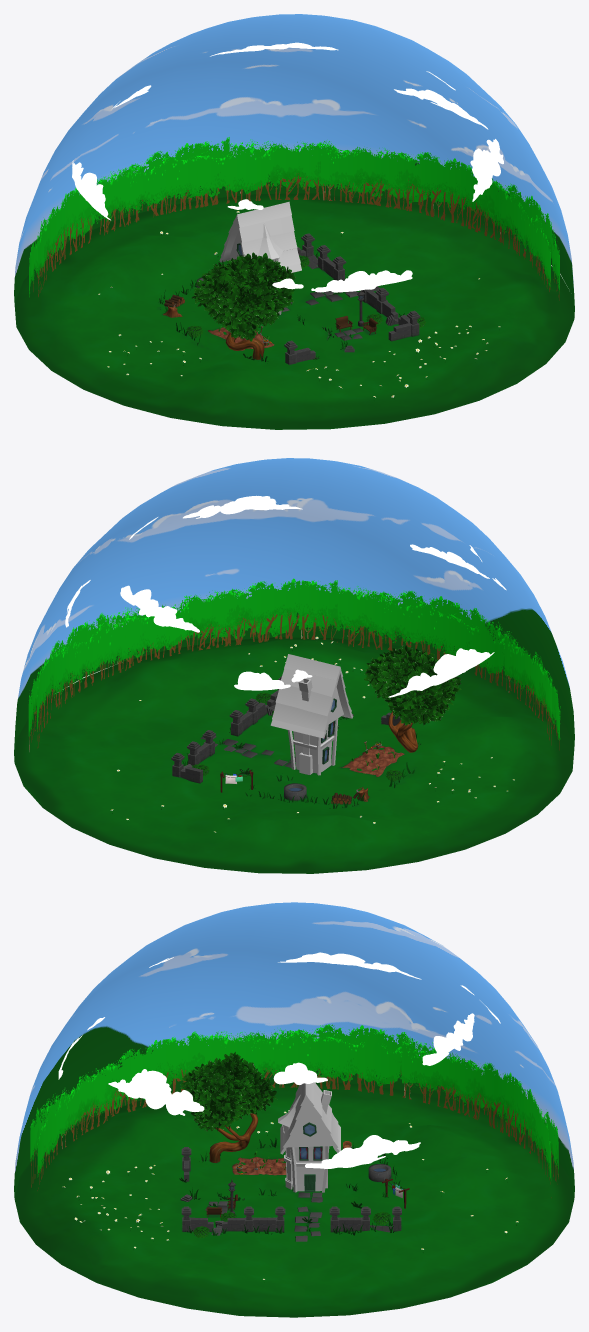
3 views of the same model, one above another, from view 1: azimuth 30°, elevation 25°; view 2: azimuth 150°, elevation 25°; view 3: azimuth 270°, elevation 25° (orthographic).
Visible parts, largest first — view 1: Floor_3, World_0, Trees_2, Leaves_23, Clouds_4, House_74; view 2: Floor_3, World_0, Trees_2, House_74, Clouds_4, Leaves_23, Dirt_37, Grass_6, Trunk_20; view 3: Floor_3, World_0, Trees_2, Clouds_4, Leaves_23, House_74, Grass_6, Trunk_20, Dirt_37.
Boxes of the visible parts, <box> form: Floor_3: <box>14,193,574,429</box>; World_0: <box>14,14,574,317</box>; Trees_2: <box>29,137,559,300</box>; Leaves_23: <box>191,252,295,341</box>; Clouds_4: <box>72,42,503,292</box>; House_74: <box>219,201,301,314</box>; Floor_3: <box>14,637,574,873</box>; World_0: <box>14,458,574,761</box>; Trees_2: <box>28,578,560,751</box>; House_74: <box>270,654,353,775</box>; Clouds_4: <box>65,495,506,697</box>; Leaves_23: <box>364,645,461,725</box>; Dirt_37: <box>340,745,404,776</box>; Grass_6: <box>182,699,420,808</box>; Trunk_20: <box>388,711,417,752</box>; Floor_3: <box>14,1082,574,1317</box>; World_0: <box>14,902,574,1197</box>; Trees_2: <box>30,1024,558,1197</box>; Clouds_4: <box>58,952,500,1168</box>; Leaves_23: <box>180,1052,276,1131</box>; House_74: <box>278,1082,340,1192</box>; Grass_6: <box>179,1138,401,1235</box>; Trunk_20: <box>209,1113,258,1162</box>; Dirt_37: <box>232,1157,286,1175</box>.
Size of the model in its own units: 14.6 by 8.14 by 14.6.
